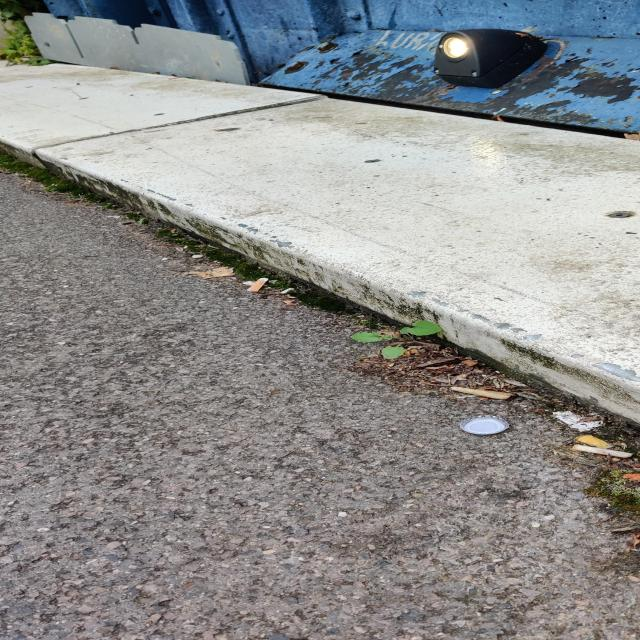litter: (552, 411, 603, 431), (459, 415, 507, 434), (449, 386, 514, 400), (573, 444, 634, 458), (578, 435, 614, 448), (246, 278, 268, 291)
